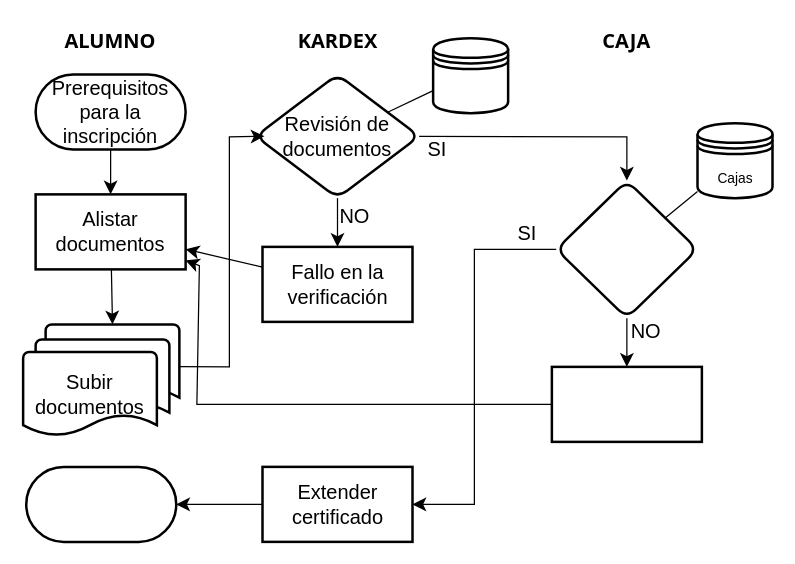
This 795x564 diagram has some shape labels left out. Each missing label, with the centre of its shape:
"Certificado Listo" belongs at point (100, 503).
"Datos Estudiante" belongs at point (470, 75).
"Deposito no encontrado" belongs at point (626, 403).
"Verificar pago en cajas" belongs at point (626, 249).
